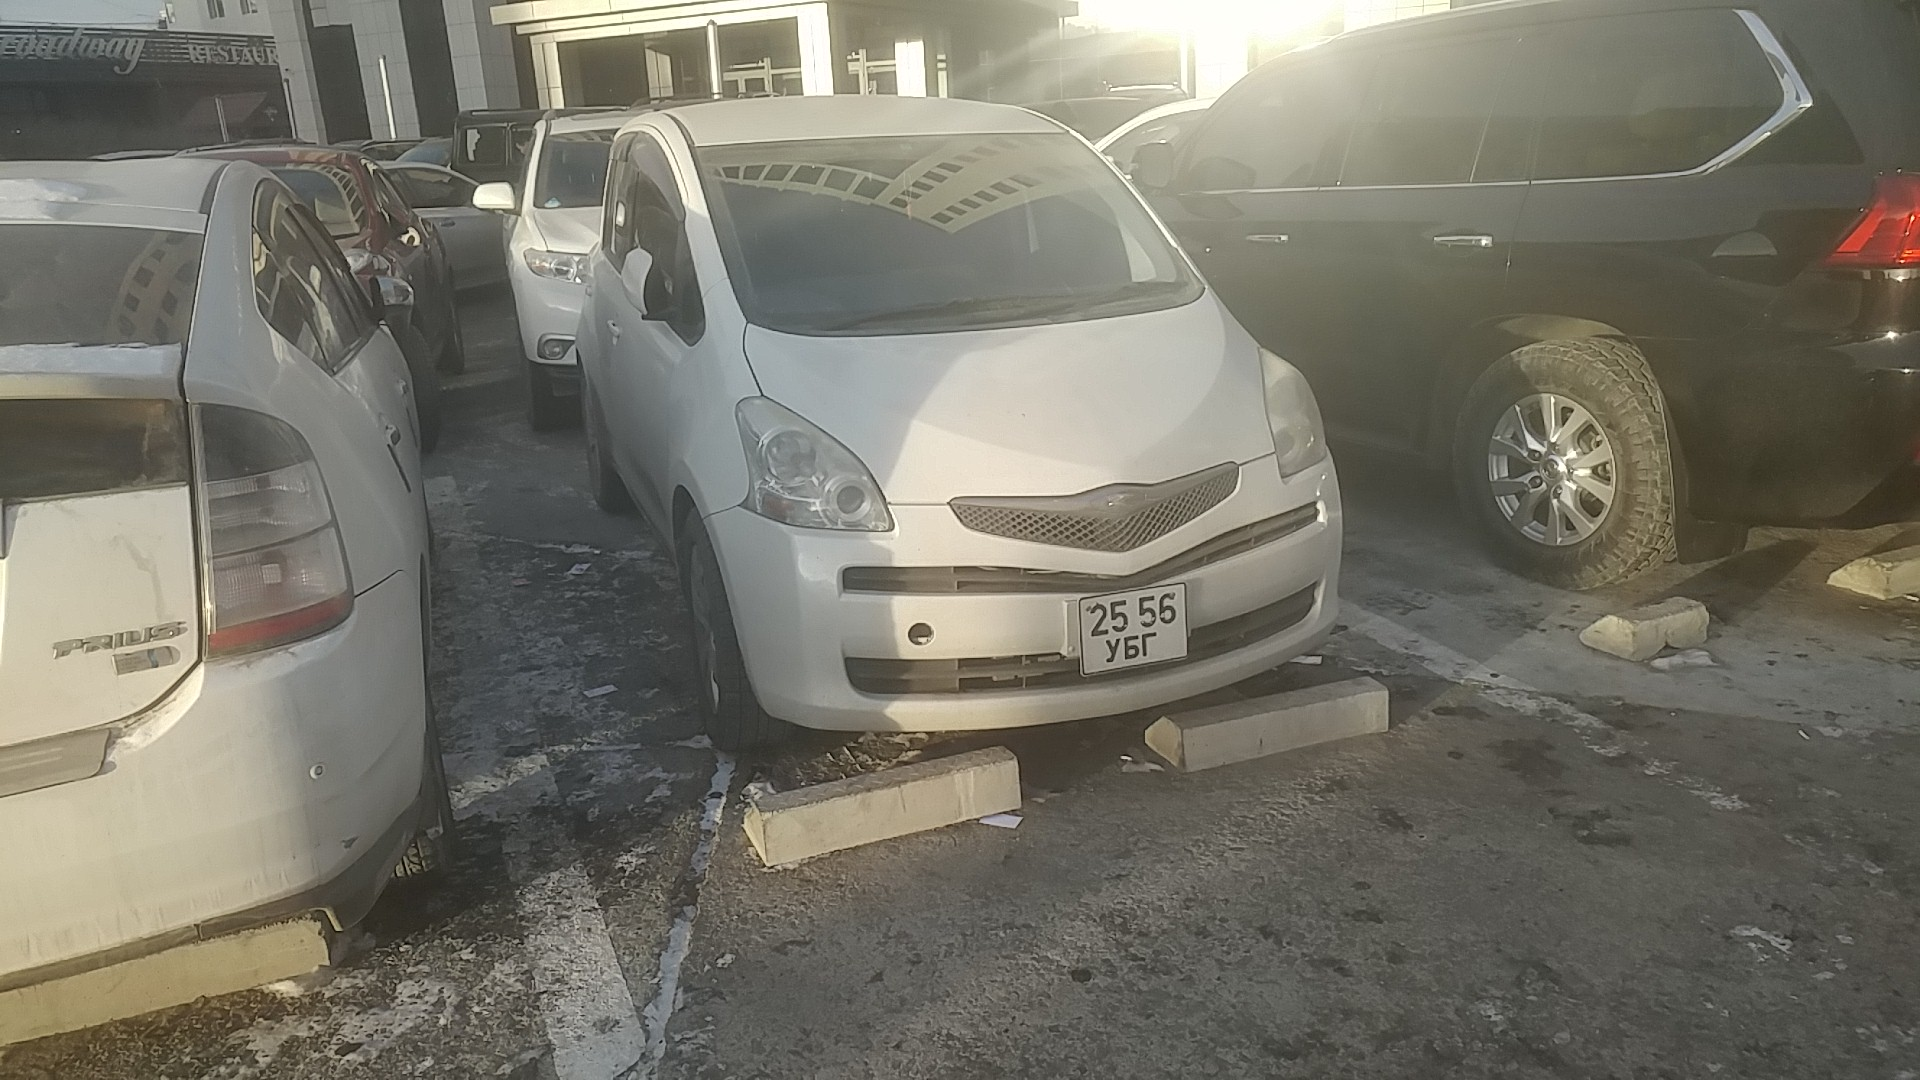2: (1089, 603, 1111, 636)
5: (1110, 599, 1130, 633), (1138, 594, 1158, 628)
6: (1158, 593, 1177, 624)
b: (1123, 634, 1141, 661)
g: (1140, 632, 1158, 659)
plate: (1074, 577, 1193, 681)
u: (1105, 637, 1121, 664)
